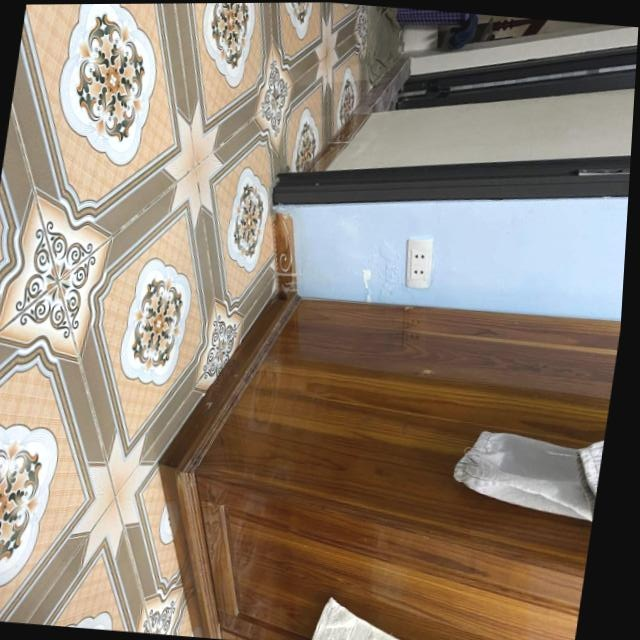outlet: (401, 236, 439, 289)
